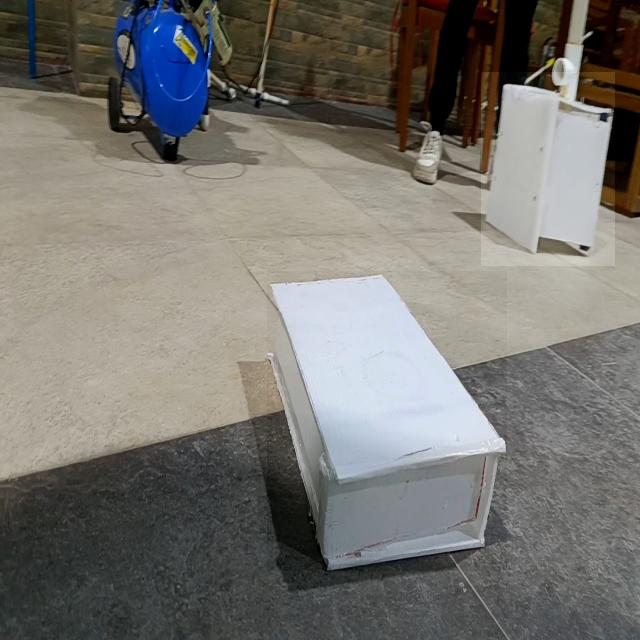Cube: (481, 72, 615, 266)
Cuboid: (267, 271, 507, 571)
